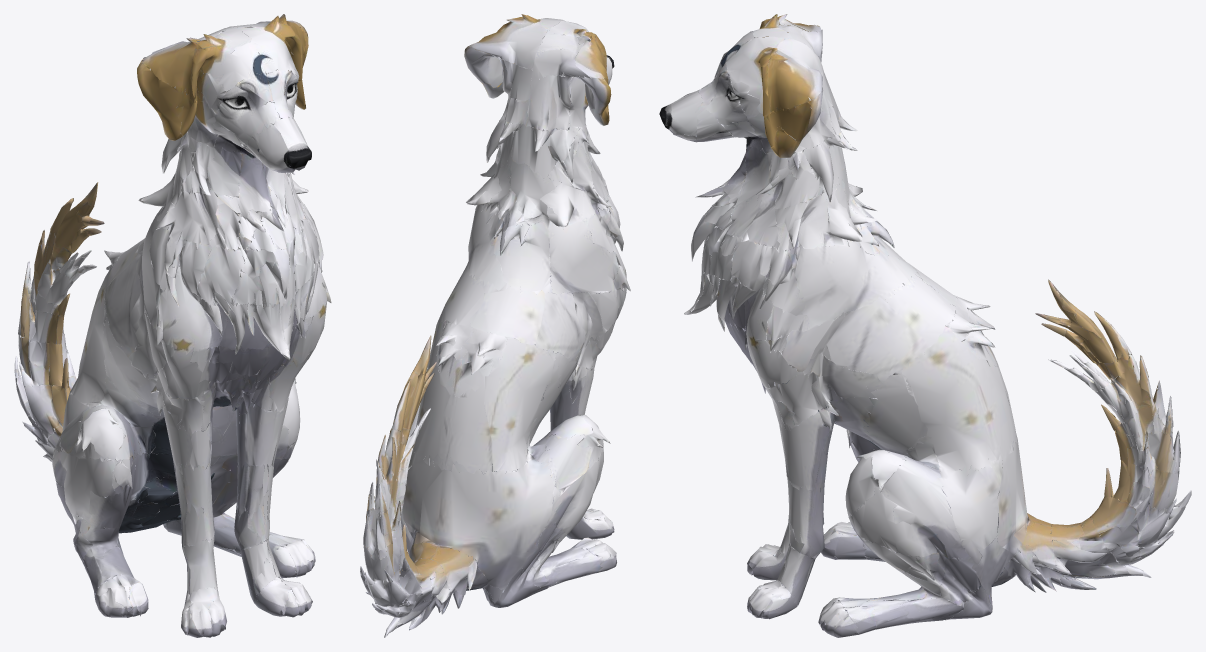
3 views of the same model, side by side, from view 1: azimuth 30°, elevation 25°; view 2: azimuth 150°, elevation 25°; view 3: azimuth 270°, elevation 25° (orthographic). The views are drawn at different scales.
Visible parts, largest first — view 1: Mesh_0; view 2: Mesh_0; view 3: Mesh_0.
Boxes of the visible parts, x1,y1,x2,y2 form: Mesh_0: (14, 14, 331, 637); Mesh_0: (360, 14, 630, 637); Mesh_0: (659, 14, 1191, 637).
Size of the model in its own units: 0.7509 by 1.9 by 1.63.
Materials: 1 (1 with a texture image).
